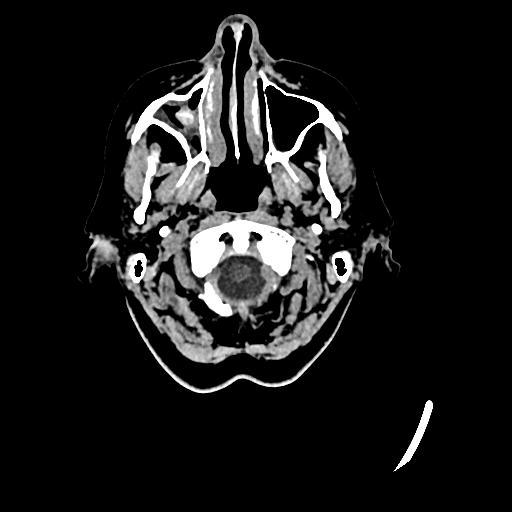Normal_Brain: (77, 9, 389, 417)
